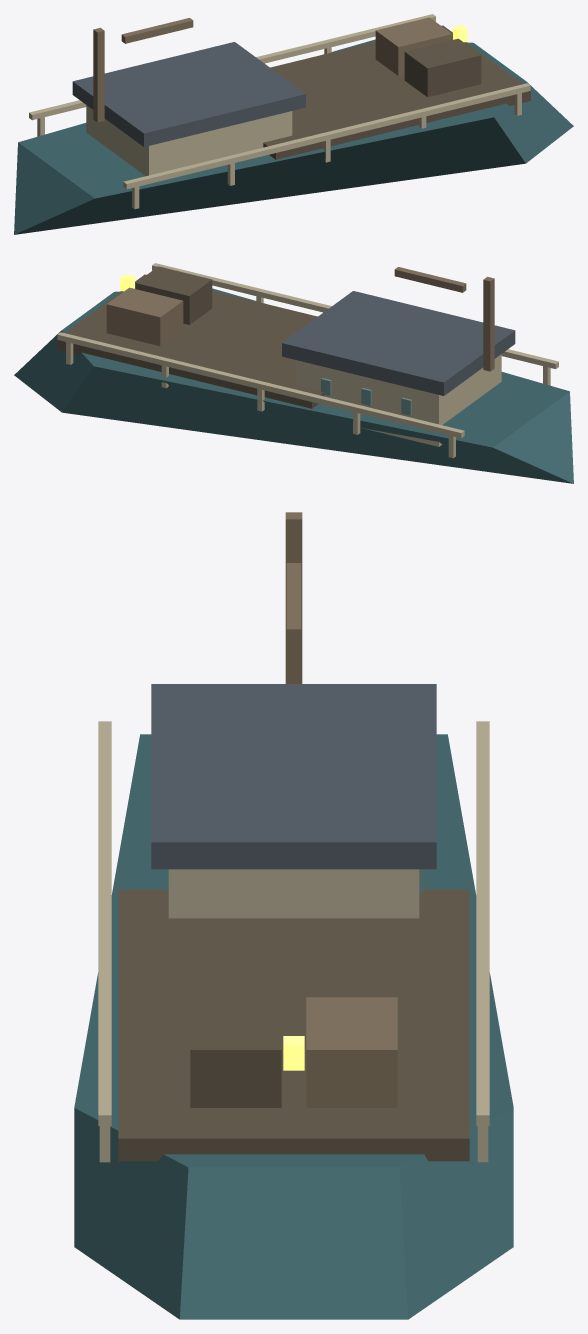
Rendered from fishing_trawler_narrows.glb.
The picture shows the model from 3 angles, top to bottom: view 1: azimuth 30°, elevation 25°; view 2: azimuth 150°, elevation 25°; view 3: azimuth 270°, elevation 25°; orthographic projection. The views are drawn at different scales.
Visible parts, largest first — view 1: Fishing_Trawler_Narrows_faceted_hull, Wheelhouse_roof.009, Fishing_Trawler_Narrows_deck, Wheelhouse_cabin.009, Fishing_Trawler_Narrows_rail_side.001, Fishing_Trawler_Narrows_fish_crate.001, Fishing_Trawler_Narrows_fish_crate, Fishing_Trawler_Narrows_rail_side, Fishing_Trawler_Narrows_mast, Fishing_Trawler_Narrows_boom; view 2: Fishing_Trawler_Narrows_faceted_hull, Wheelhouse_roof.009, Fishing_Trawler_Narrows_deck, Wheelhouse_cabin.009, Fishing_Trawler_Narrows_rail_side, Fishing_Trawler_Narrows_fish_crate, Fishing_Trawler_Narrows_fish_crate.001, Fishing_Trawler_Narrows_rail_side.001, Fishing_Trawler_Narrows_mast, Fishing_Trawler_Narrows_boom; view 3: Fishing_Trawler_Narrows_faceted_hull, Fishing_Trawler_Narrows_deck, Wheelhouse_roof.009, Wheelhouse_cabin.009, Fishing_Trawler_Narrows_fish_crate, Fishing_Trawler_Narrows_fish_crate.001, Fishing_Trawler_Narrows_rail_side, Fishing_Trawler_Narrows_rail_side.001, Fishing_Trawler_Narrows_mast, Fishing_Trawler_Narrows_boom.
Boxes of the visible parts, x1,y1,x2,y2 form: Fishing_Trawler_Narrows_faceted_hull: [14, 39, 573, 234]; Wheelhouse_roof.009: [72, 42, 305, 146]; Fishing_Trawler_Narrows_deck: [263, 25, 530, 159]; Wheelhouse_cabin.009: [86, 105, 292, 175]; Fishing_Trawler_Narrows_rail_side.001: [123, 83, 530, 189]; Fishing_Trawler_Narrows_fish_crate.001: [404, 38, 481, 97]; Fishing_Trawler_Narrows_fish_crate: [375, 17, 452, 75]; Fishing_Trawler_Narrows_rail_side: [29, 14, 435, 120]; Fishing_Trawler_Narrows_mast: [93, 27, 104, 122]; Fishing_Trawler_Narrows_boom: [121, 18, 193, 43]; Fishing_Trawler_Narrows_faceted_hull: [14, 288, 573, 483]; Wheelhouse_roof.009: [282, 291, 515, 395]; Fishing_Trawler_Narrows_deck: [57, 274, 324, 411]; Wheelhouse_cabin.009: [295, 354, 501, 446]; Fishing_Trawler_Narrows_rail_side: [57, 332, 464, 438]; Fishing_Trawler_Narrows_fish_crate: [106, 287, 183, 346]; Fishing_Trawler_Narrows_fish_crate.001: [135, 266, 212, 324]; Fishing_Trawler_Narrows_rail_side.001: [152, 263, 558, 369]; Fishing_Trawler_Narrows_mast: [483, 276, 494, 371]; Fishing_Trawler_Narrows_boom: [394, 267, 466, 292]; Fishing_Trawler_Narrows_faceted_hull: [74, 734, 513, 1319]; Fishing_Trawler_Narrows_deck: [118, 889, 469, 1161]; Wheelhouse_roof.009: [151, 684, 436, 869]; Wheelhouse_cabin.009: [168, 869, 419, 918]; Fishing_Trawler_Narrows_fish_crate: [306, 997, 397, 1107]; Fishing_Trawler_Narrows_fish_crate.001: [190, 997, 281, 1107]; Fishing_Trawler_Narrows_rail_side: [476, 721, 489, 1125]; Fishing_Trawler_Narrows_rail_side.001: [98, 721, 111, 1125]; Fishing_Trawler_Narrows_mast: [285, 512, 302, 683]; Fishing_Trawler_Narrows_boom: [286, 563, 301, 642].
Bounding box in the file's own units: 7.4 × 2.45 × 2.65.
